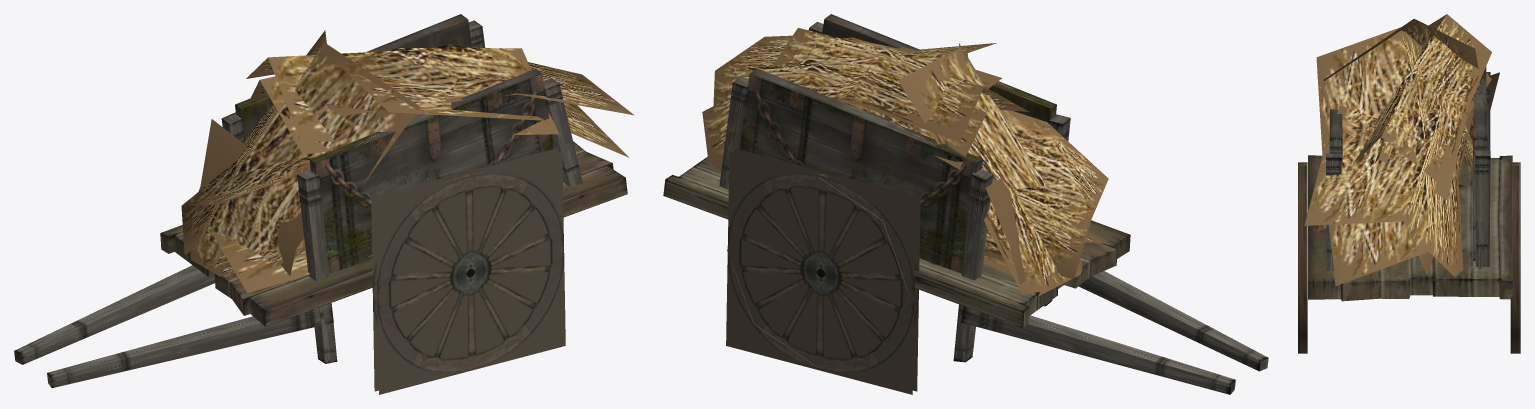
File: cart_reg.fbx
3 renders of one model, left to right at view 1: azimuth 30°, elevation 25°; view 2: azimuth 150°, elevation 25°; view 3: azimuth 270°, elevation 25°, orthographic. The views are drawn at different scales.
Visible parts, largest first — view 1: spokes1, sides1, hay5, CartBase1, hay1, handle1, hay6, handle2, hay18, hay15, wood2, hay19 (+5 smaller); view 2: spokes15, sides2, hay5, CartBase1, hay18, hay19, handle2, hay6, handle1, hay15, wood4, hay1 (+4 smaller); view 3: hay1, CartBase1, hay15, hay19, hay6, wheel2, wheel1, wood3, hay5, sides2, wood1, sides1 (+2 smaller).
Boxes of the visible parts, left/top/right/bottom form: spokes1: left=375, top=151, right=565, bottom=394; sides1: left=309, top=68, right=553, bottom=274; hay5: left=189, top=30, right=420, bottom=277; CartBase1: left=160, top=141, right=627, bottom=326; hay1: left=327, top=47, right=629, bottom=157; handle1: left=47, top=304, right=333, bottom=387; hay6: left=249, top=48, right=558, bottom=154; handle2: left=14, top=265, right=214, bottom=364; hay18: left=181, top=114, right=421, bottom=254; hay15: left=323, top=44, right=634, bottom=115; wood2: left=297, top=170, right=337, bottom=363; hay19: left=246, top=50, right=429, bottom=141; spokes15: left=726, top=151, right=915, bottom=394; sides2: left=739, top=68, right=982, bottom=273; hay5: left=898, top=43, right=1082, bottom=296; CartBase1: left=663, top=157, right=1130, bottom=327; hay18: left=984, top=110, right=1108, bottom=279; hay19: left=832, top=47, right=1029, bottom=142; handle2: left=961, top=306, right=1235, bottom=394; hay6: left=773, top=28, right=986, bottom=169; handle1: left=1078, top=271, right=1268, bottom=371; hay15: left=713, top=35, right=1002, bottom=105; wood4: left=953, top=169, right=993, bottom=362; hay1: left=702, top=43, right=996, bottom=170; hay1: left=1316, top=27, right=1463, bottom=285; CartBase1: left=1308, top=155, right=1512, bottom=301; hay15: left=1304, top=102, right=1473, bottom=275; hay19: left=1375, top=14, right=1491, bottom=200; hay6: left=1353, top=66, right=1491, bottom=187; wheel2: left=1510, top=162, right=1520, bottom=353; wheel1: left=1298, top=162, right=1307, bottom=353; wood3: left=1475, top=151, right=1490, bottom=266; hay5: left=1323, top=19, right=1478, bottom=143; sides2: left=1473, top=66, right=1487, bottom=260; wood1: left=1326, top=153, right=1341, bottom=270; sides1: left=1329, top=109, right=1342, bottom=161.
Size of the model in its own units: 1613 by 846 by 579.
2 materials, 2 textured.
